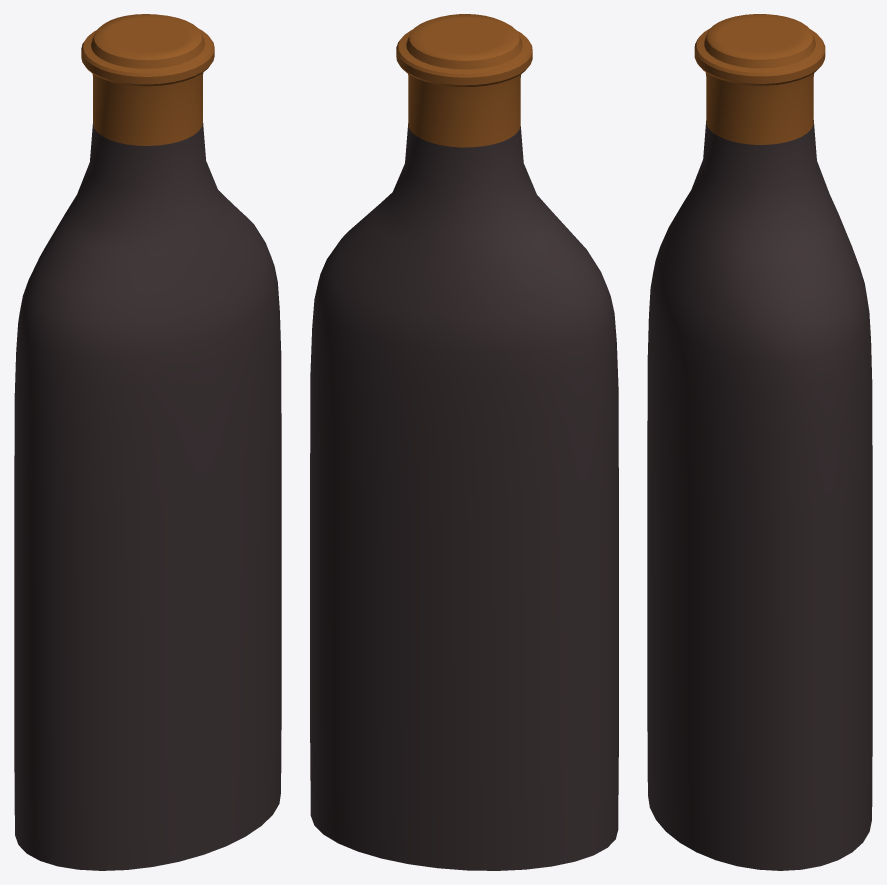
Rendered from butelka.fbx.
3 views of the same model, side by side, from view 1: azimuth 30°, elevation 25°; view 2: azimuth 150°, elevation 25°; view 3: azimuth 270°, elevation 25° (orthographic).
Parts seen in each view (by area): view 1: Cylinder.002; view 2: Cylinder.002; view 3: Cylinder.002.
Boxes of the visible parts, bbox=[...] form: Cylinder.002: bbox=[14, 14, 281, 870]; Cylinder.002: bbox=[310, 14, 618, 870]; Cylinder.002: bbox=[647, 14, 872, 870].
Size of the model in its own units: 61.99 by 175 by 46.21.
